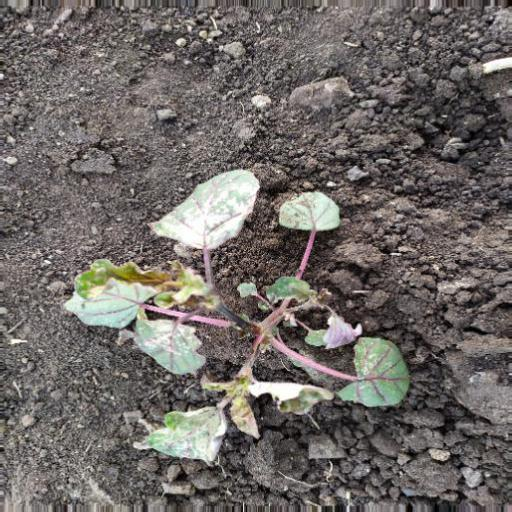weed: (55, 166, 407, 512)
